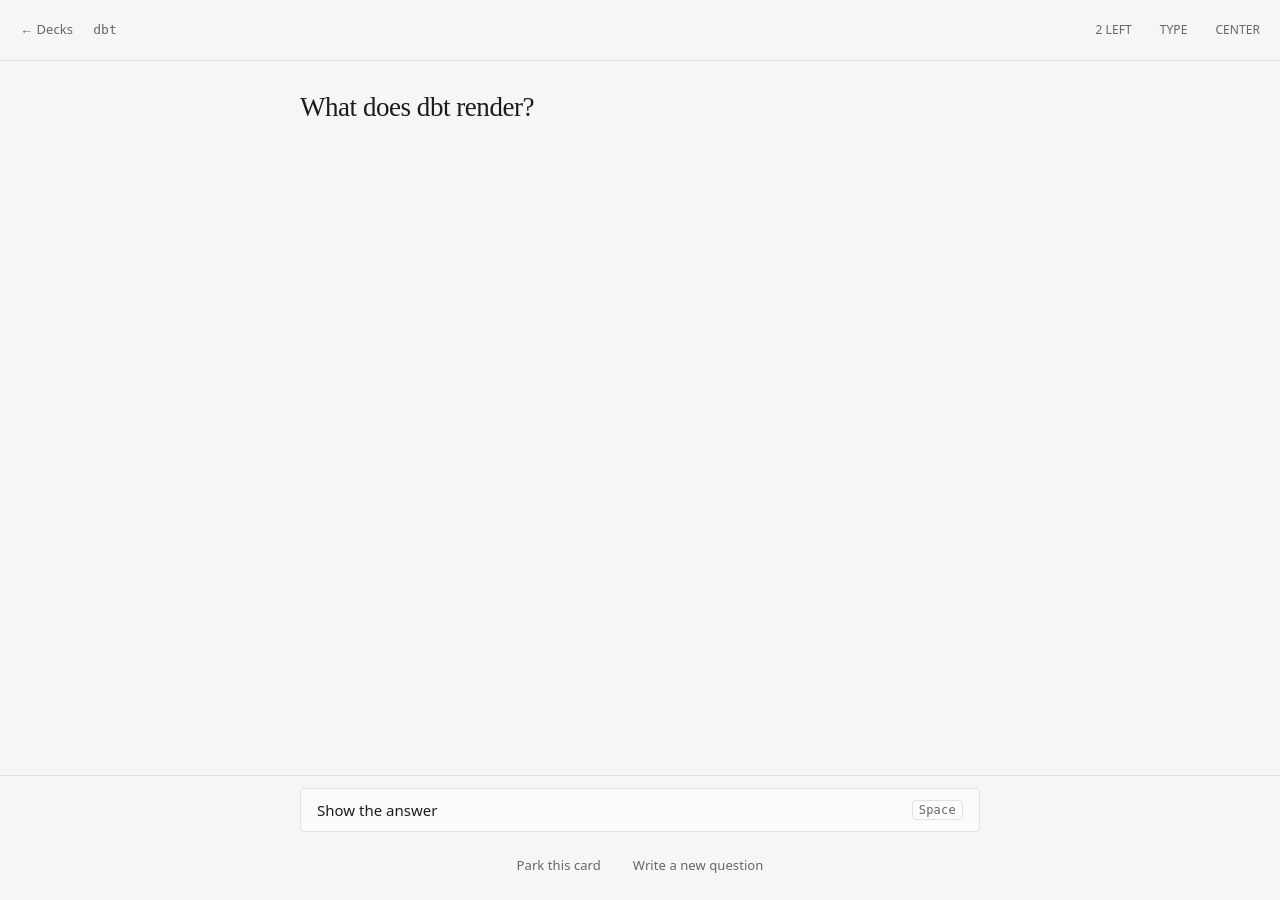
Test: ReviewSession on a deck spanning two notes › asks only the cards of this deck, out of every note holding one
Expected: the element with test id "review-card" reads "What does dbt render?", [300,92,534,122]
Click the button "Show the answer Space" at x=377, y=810, box [300,788,980,832]
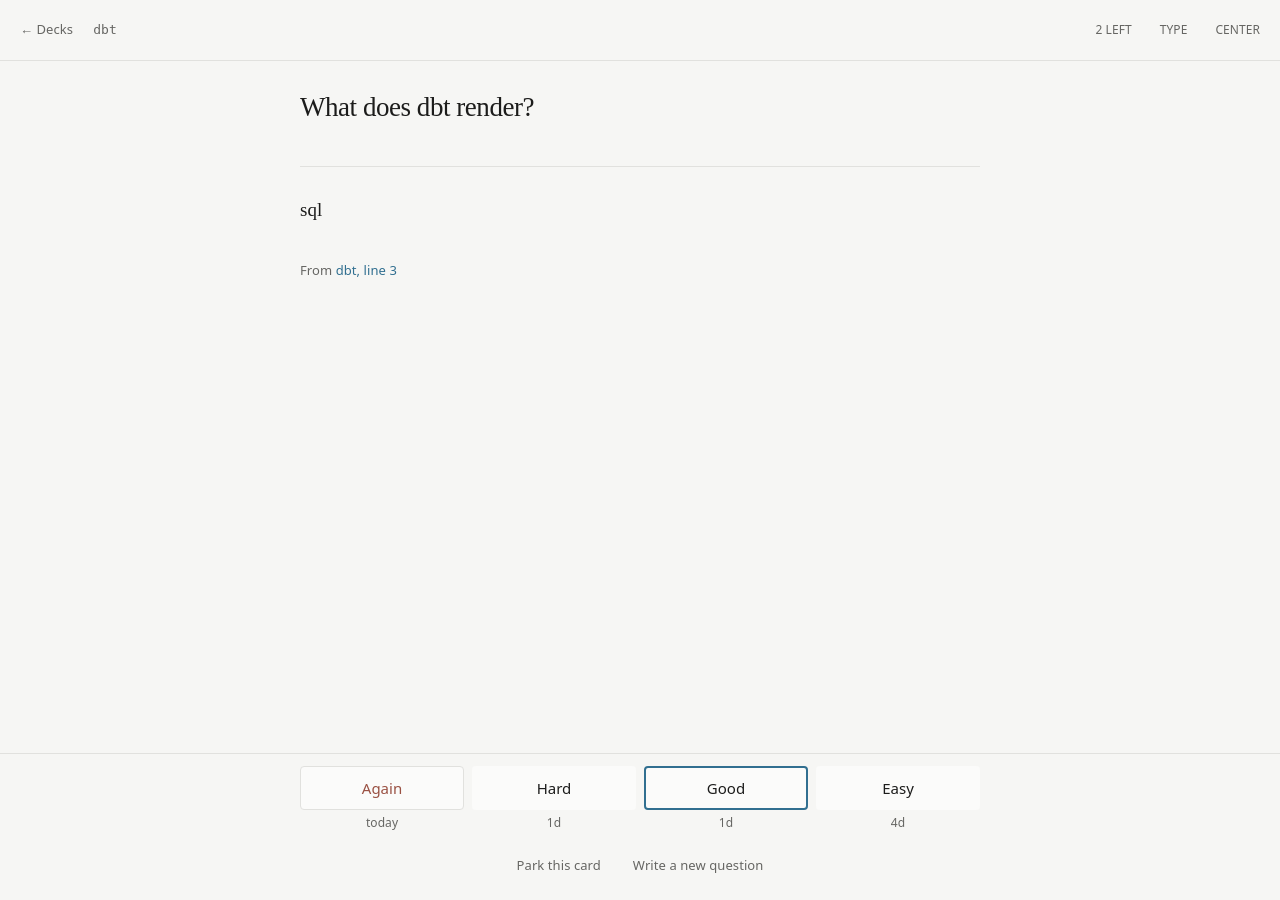
Click the button "Good" at x=726, y=788, box [644,766,808,810]
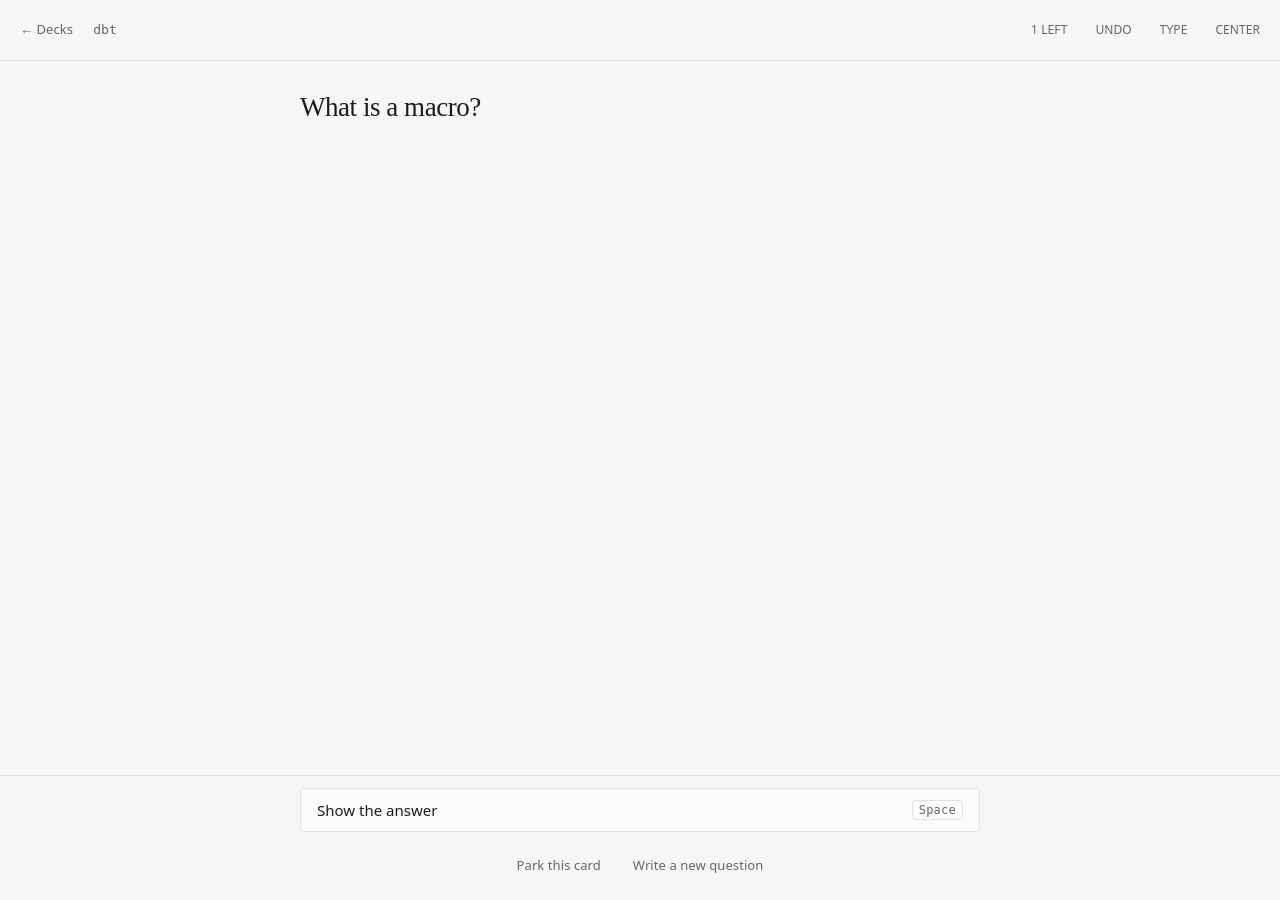
Expected: the element with test id "review-card" does not show "What is a proc?", [300,92,481,122]
Expected: the element with test id "review-card" reads "What is a macro?", [300,92,481,122]
Click the button "Show the answer Space" at x=377, y=810, box [300,788,980,832]
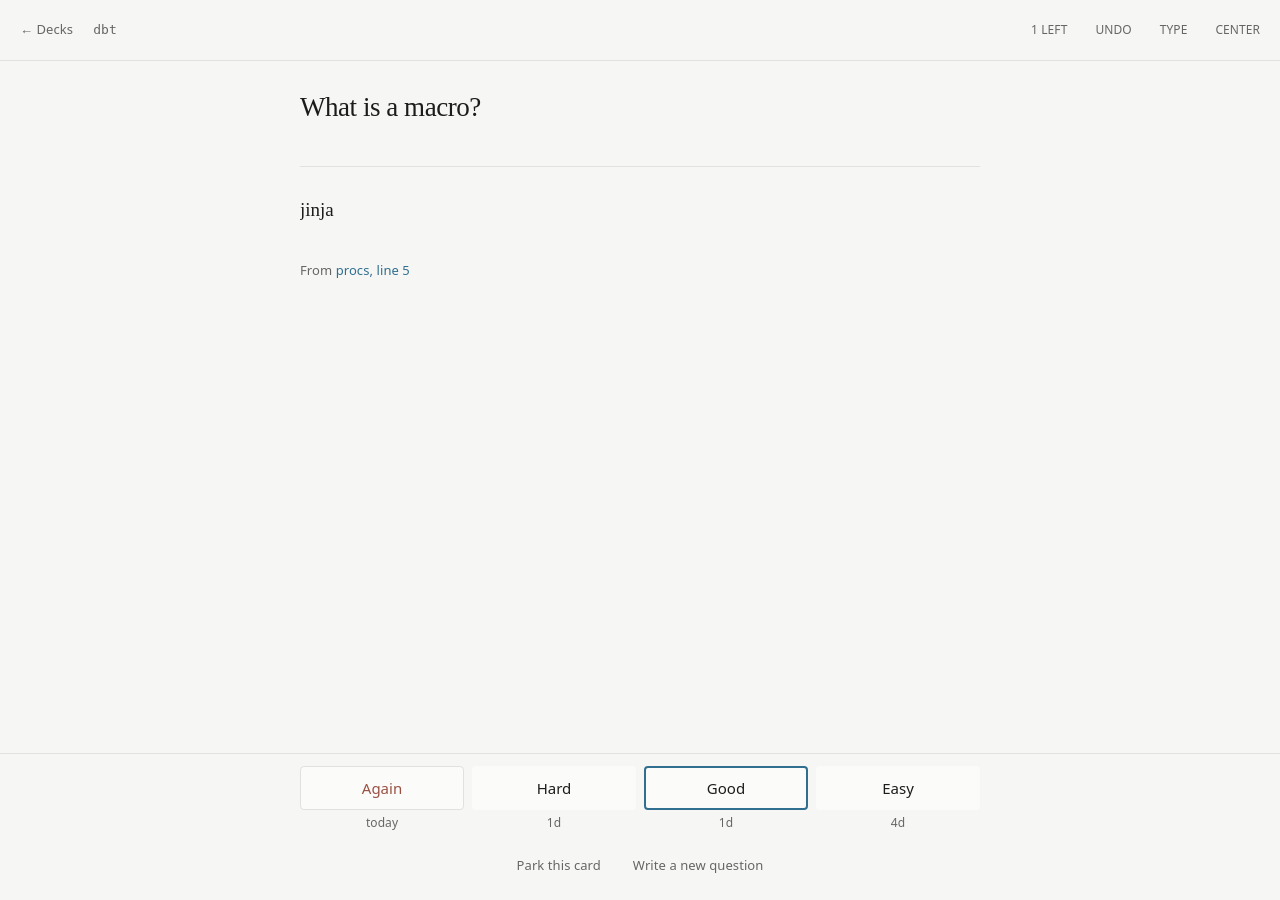
Click the button "Good" at x=726, y=788, box [644,766,808,810]
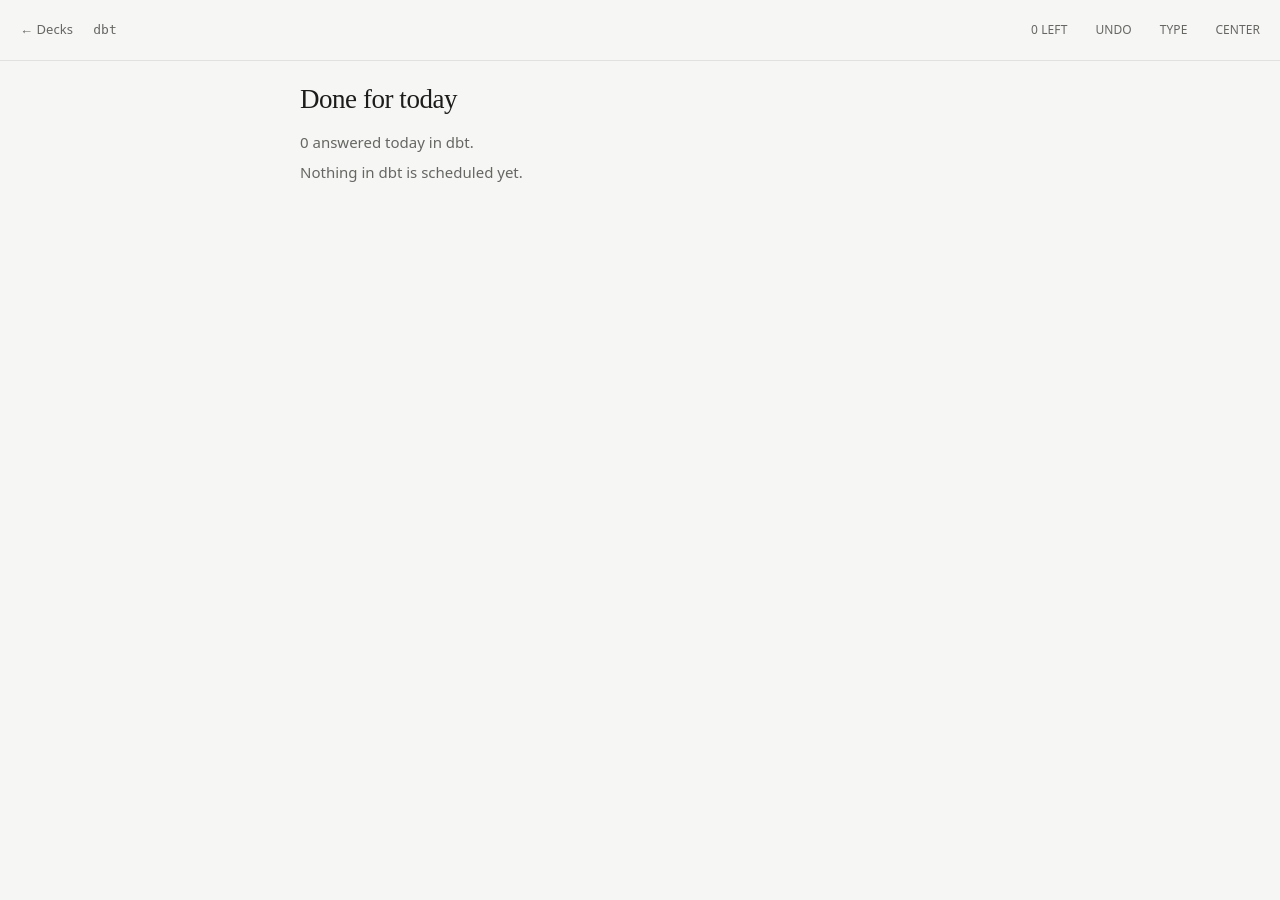
Expected: the element with test id "review-done" is shown, [300,84,523,182]
